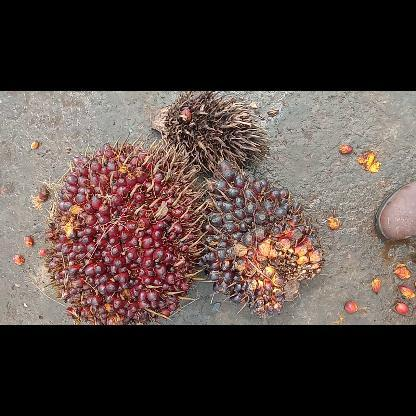Janjang kosong: (149, 91, 271, 175)
TBS masak: (44, 134, 208, 324)
TBS mentah: (197, 160, 323, 317)
